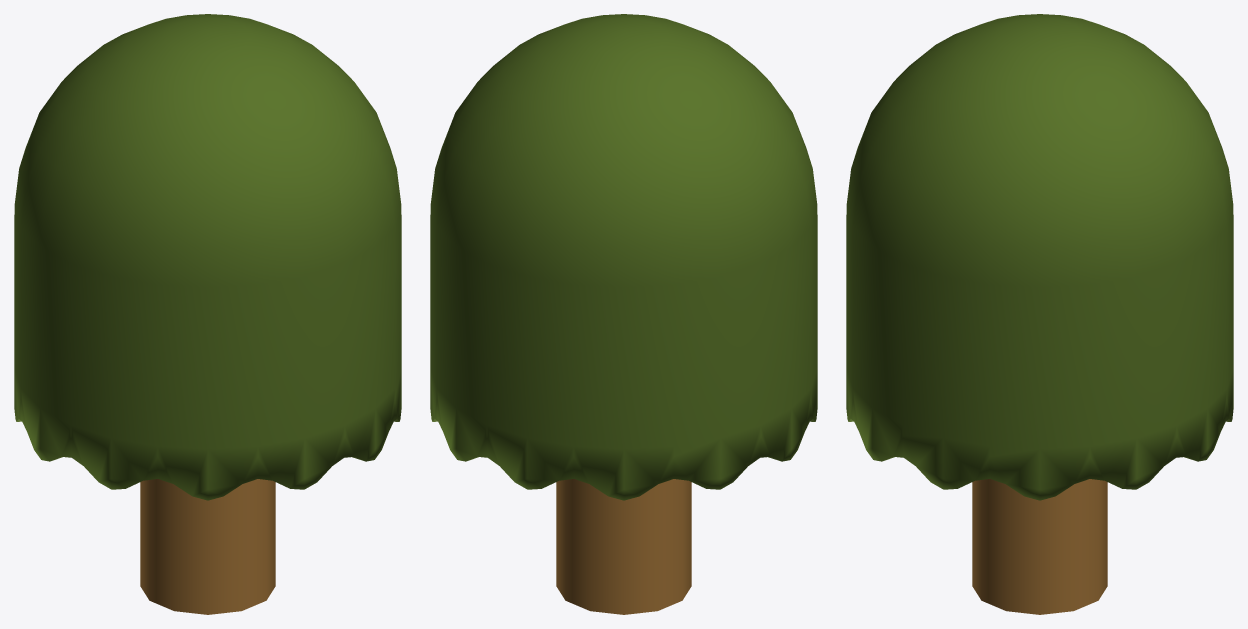
Rendered from tree6.fbx.
The picture shows the model from 3 angles, left to right: view 1: azimuth 30°, elevation 25°; view 2: azimuth 150°, elevation 25°; view 3: azimuth 270°, elevation 25°; orthographic projection.
Visible parts, largest first — view 1: tree.005; view 2: tree.005; view 3: tree.005.
Boxes of the visible parts, x1,y1,x2,y2 form: tree.005: (14, 14, 401, 614); tree.005: (430, 14, 817, 614); tree.005: (846, 14, 1233, 614).
Bounding box in the file's own units: 146 × 230 × 146.
